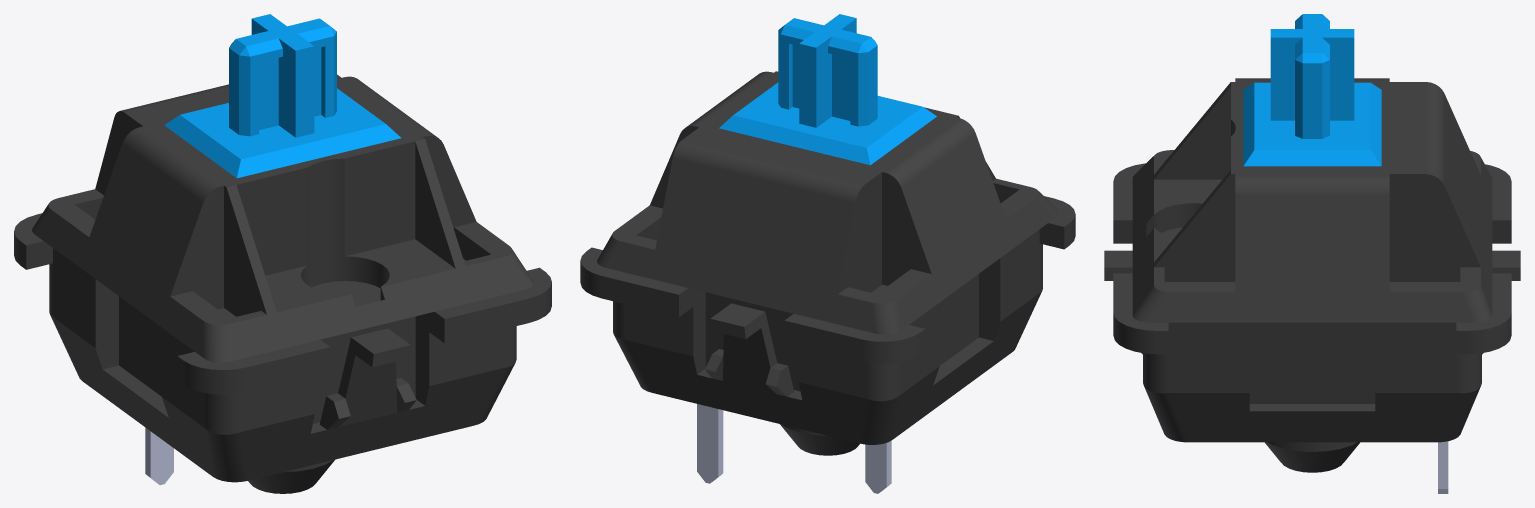
File: cherry mx.obj
3 renders of one model, left to right at view 1: azimuth 30°, elevation 25°; view 2: azimuth 150°, elevation 25°; view 3: azimuth 270°, elevation 25°, orthographic. The views are drawn at different scales.
Visible parts, largest first — view 1: Corps1, Corps3, Corps2, Corps5; view 2: Corps1, Corps3, Corps2, Corps6, Corps5; view 3: Corps1, Corps3, Corps2, Corps6.
Part boxes in pixels (<box>): Corps1: <box>32,74,533,362</box>; Corps3: <box>14,213,551,493</box>; Corps2: <box>164,14,401,178</box>; Corps5: <box>145,427,173,485</box>; Corps1: <box>597,71,1058,334</box>; Corps3: <box>580,196,1075,455</box>; Corps2: <box>719,14,936,165</box>; Corps6: <box>697,404,723,483</box>; Corps5: <box>865,440,891,493</box>; Corps1: <box>1132,78,1492,322</box>; Corps3: <box>1104,163,1520,472</box>; Corps2: <box>1243,14,1381,166</box>; Corps6: <box>1438,441,1448,493</box>.
Bounding box in the file's own units: 1.55 × 1.85 × 1.62.
